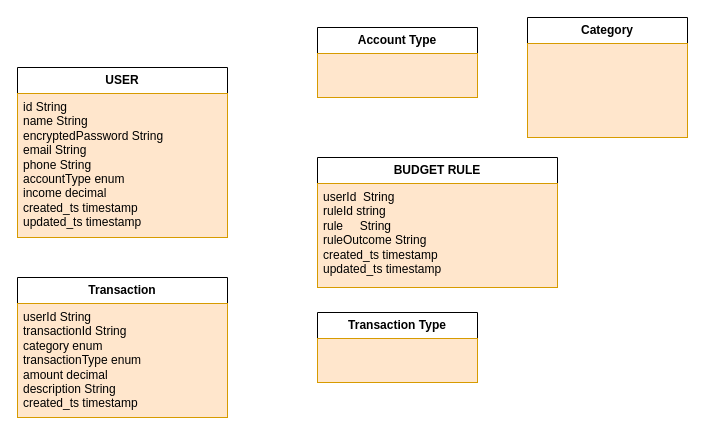
Image size: 705x438. Some labels were removed from this diagram. The shapes that lost their labels are listed below. From the top down, each one's centre as x and y in pixels, then its label:
At [397,75]: "Basic Premium".
At [607,90]: "Food Rent Entertainment Travel Investment Credit".
At [397,360]: "DEBIT CREDIT".
